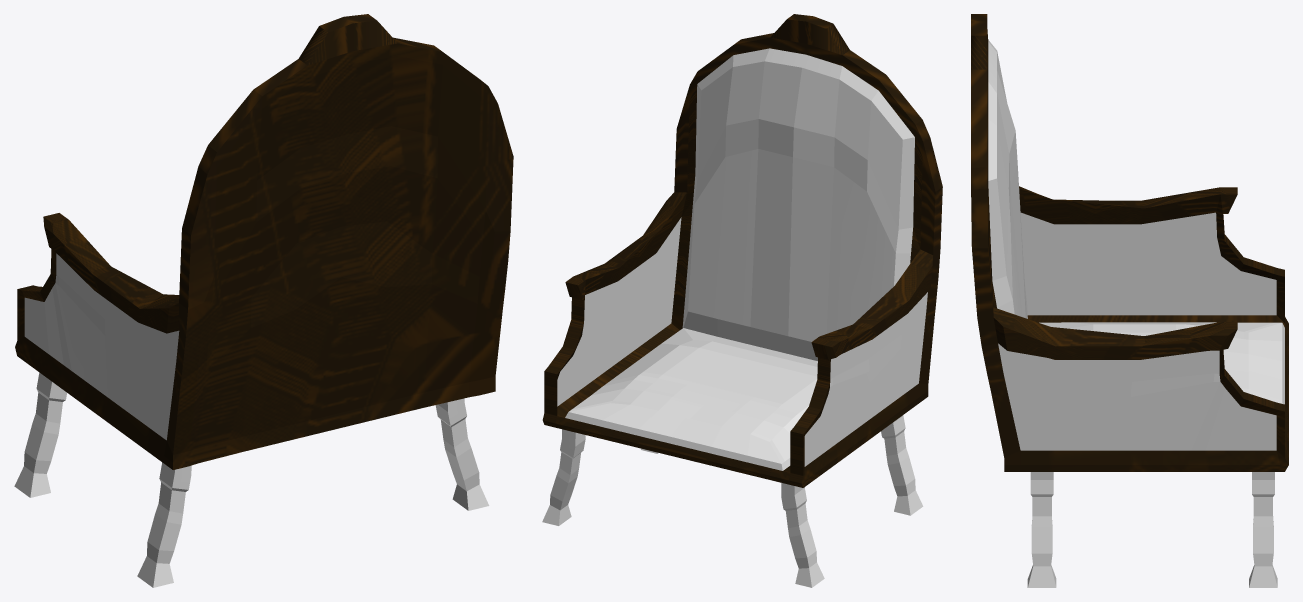
File: MESH_DeskChair.fbx
The picture shows the model from 3 angles, left to right: view 1: azimuth 30°, elevation 25°; view 2: azimuth 150°, elevation 25°; view 3: azimuth 270°, elevation 25°; orthographic projection. The views are drawn at different scales.
Parts seen in each view (by area): view 1: Cube.003, LivingChair; view 2: Cube.003, LivingChair; view 3: Cube.003, LivingChair.
Part boxes in pixels (x1,y1,x2,y2): Cube.003: (15,14,513,469); LivingChair: (14,372,489,587); Cube.003: (542,14,942,487); LivingChair: (542,415,923,587); Cube.003: (971,14,1288,471); LivingChair: (1027,472,1277,587).
Size of the model in its own units: 92.58 by 144 by 84.18.
